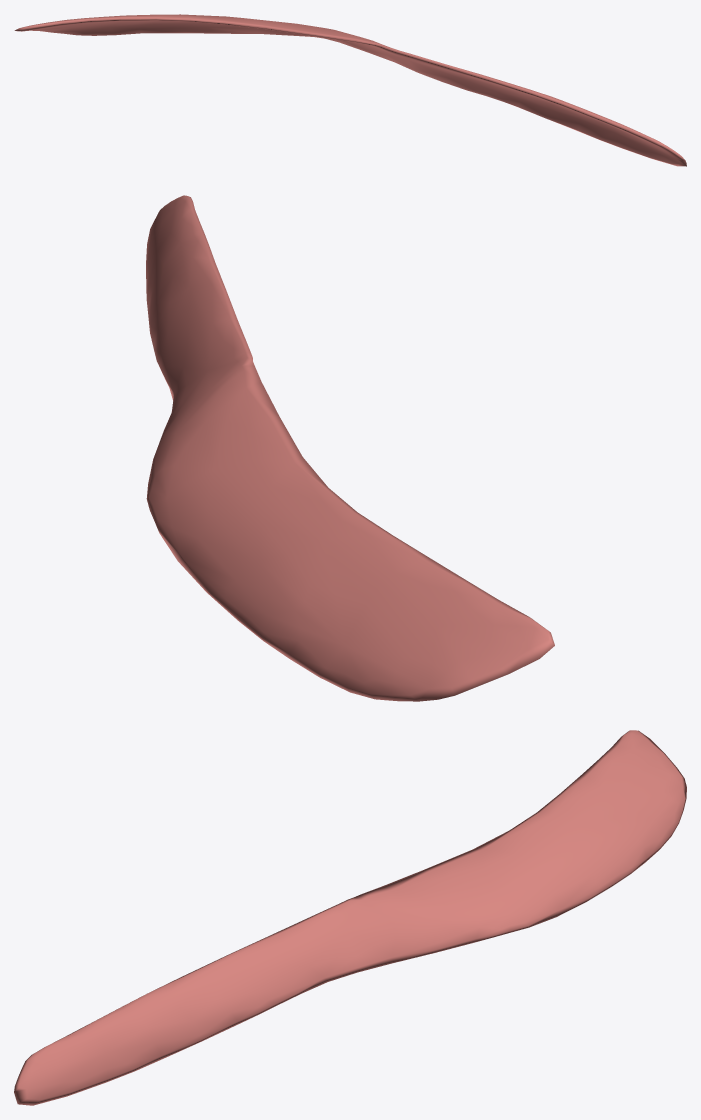
The picture shows the model from 3 angles, top to bottom: view 1: azimuth 30°, elevation 25°; view 2: azimuth 150°, elevation 25°; view 3: azimuth 270°, elevation 25°; orthographic projection. The views are drawn at different scales.
Visible parts, largest first — view 1: ZA_e8e9bb1f2dc6e4db; view 2: ZA_e8e9bb1f2dc6e4db; view 3: ZA_e8e9bb1f2dc6e4db.
Boxes of the visible parts, <box> form: ZA_e8e9bb1f2dc6e4db: <box>14,14,686,166</box>; ZA_e8e9bb1f2dc6e4db: <box>146,195,554,701</box>; ZA_e8e9bb1f2dc6e4db: <box>14,730,686,1105</box>.
Size of the model in its own units: 0.049 by 0.00863 by 0.0496.
